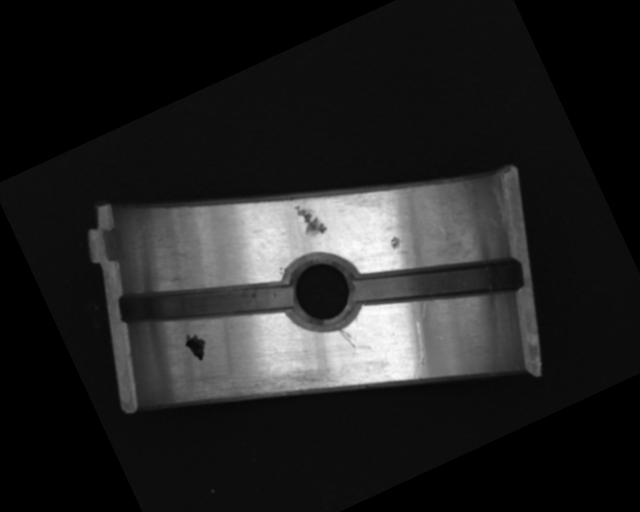blot: (181, 327, 212, 365)
bruise: (293, 196, 330, 241), (388, 233, 404, 252)
gap: (114, 232, 298, 374), (351, 215, 526, 349)
hole: (271, 242, 374, 346)
nick: (392, 319, 443, 381), (336, 323, 357, 351)
scratch: (182, 336, 330, 443)
